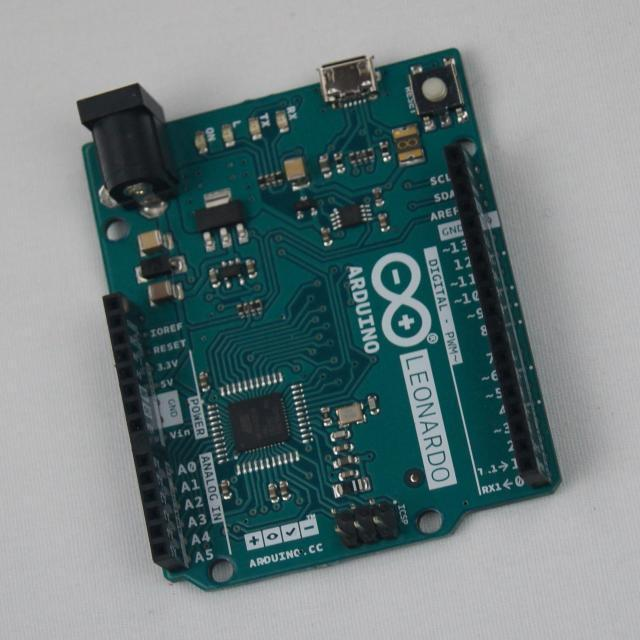Arduino-leonardo: (79, 49, 560, 589)
